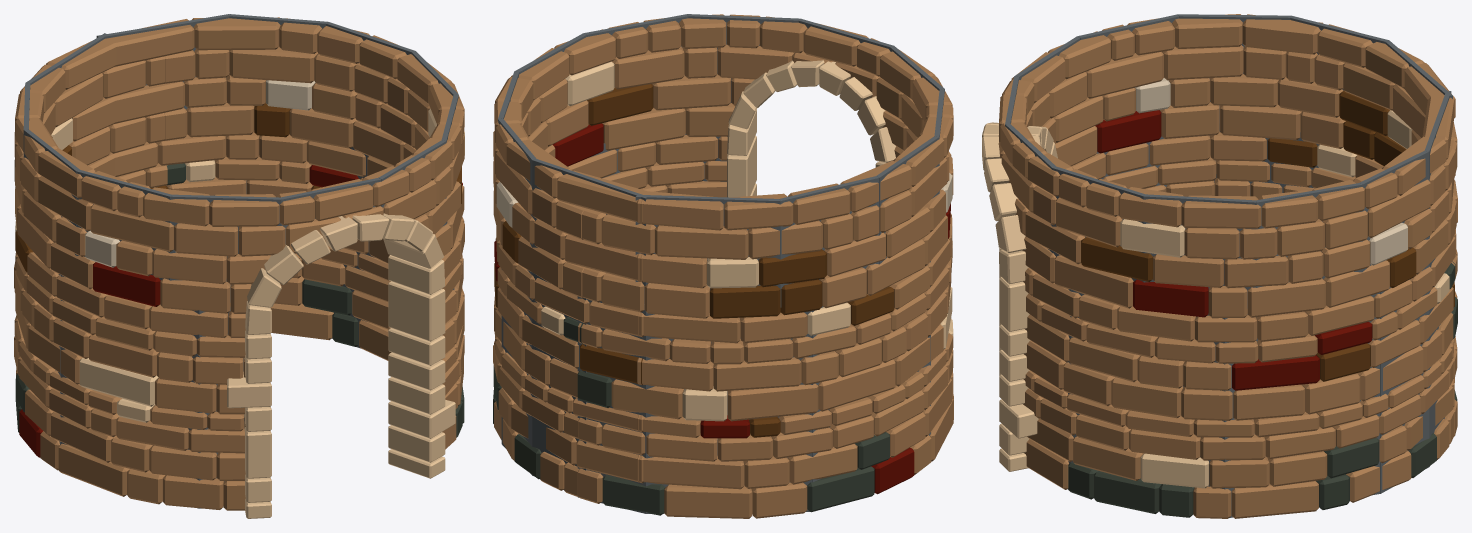
Rendered from base-section-with-doorway.glb.
3 renders of one model, left to right at view 1: azimuth 30°, elevation 25°; view 2: azimuth 150°, elevation 25°; view 3: azimuth 270°, elevation 25°, orthographic. The views are drawn at different scales.
Parts seen in each view (by area): view 1: main-wall.285, doorframe, grout-wall; view 2: main-wall.285, grout-wall, doorframe; view 3: main-wall.285, doorframe, grout-wall.
Boxes of the visible parts, x1,y1,x2,y2 form: main-wall.285: (14,17,464,510); doorframe: (227,213,455,518); grout-wall: (23,14,458,508); main-wall.285: (493,14,953,518); grout-wall: (498,14,944,513); doorframe: (727,60,895,197); main-wall.285: (998,14,1457,518); doorframe: (982,122,1057,471); grout-wall: (1005,14,1452,517).
Bounding box in the file's own units: 2.9 × 2.19 × 2.99.
